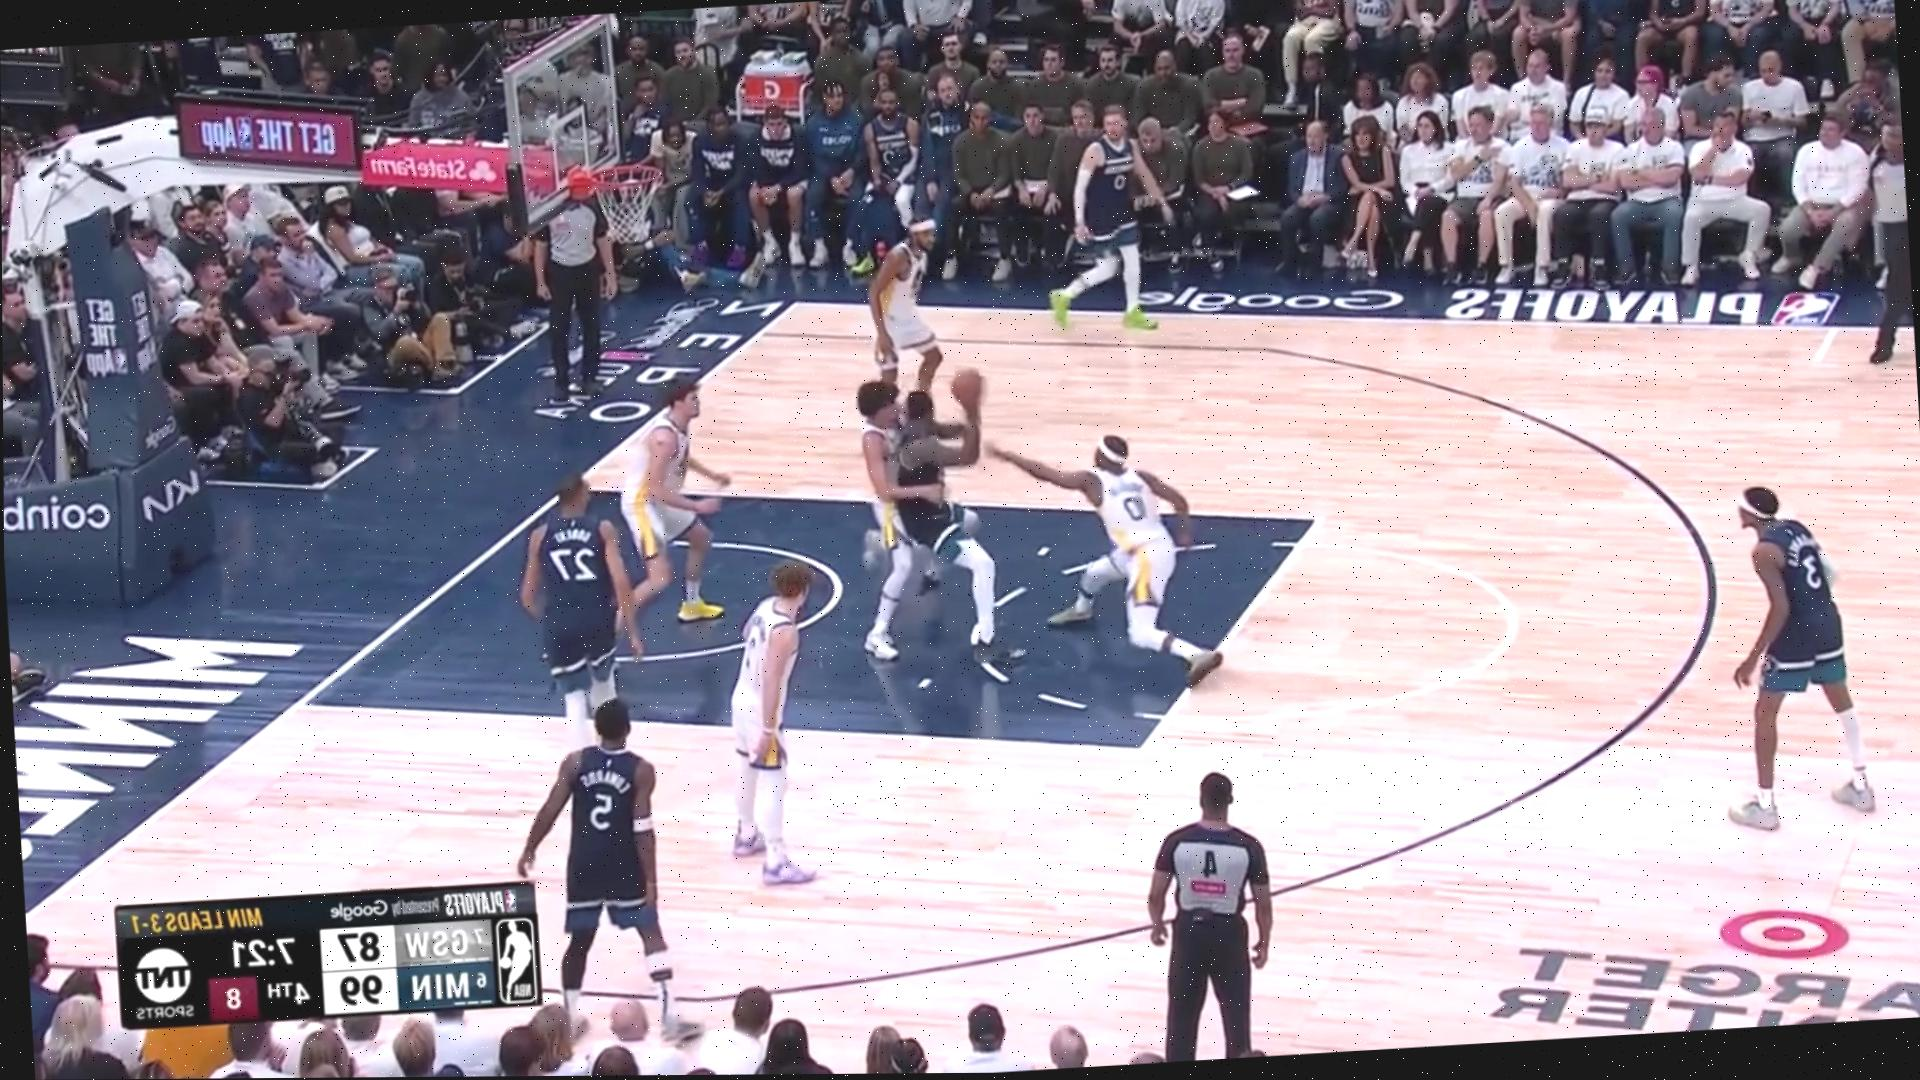foul: (829, 361, 1009, 683)
